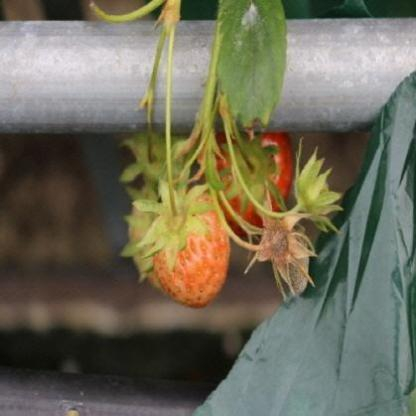Strawberry_Gray_Mold: (255, 212, 314, 296)
